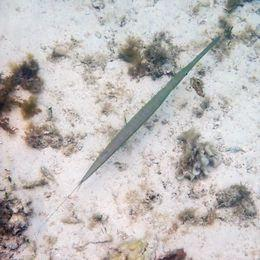Fistularia commersonii: (48, 36, 235, 199)
